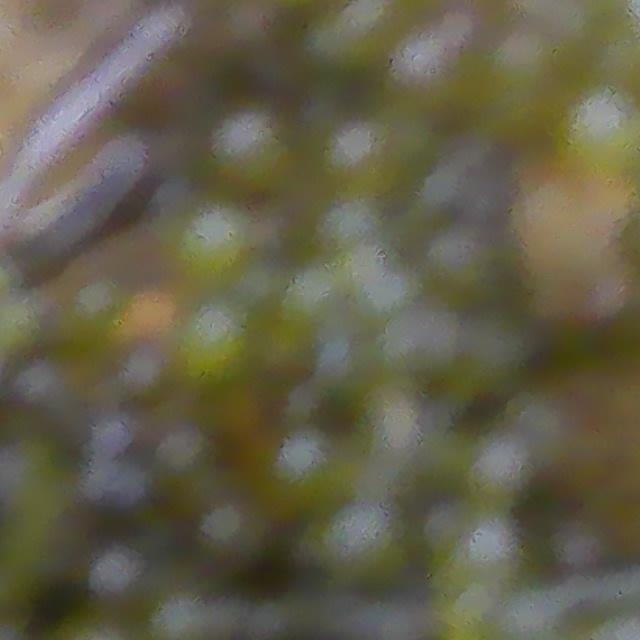SeaGrape: (171, 299, 257, 384), (316, 502, 399, 584), (88, 545, 143, 600)
